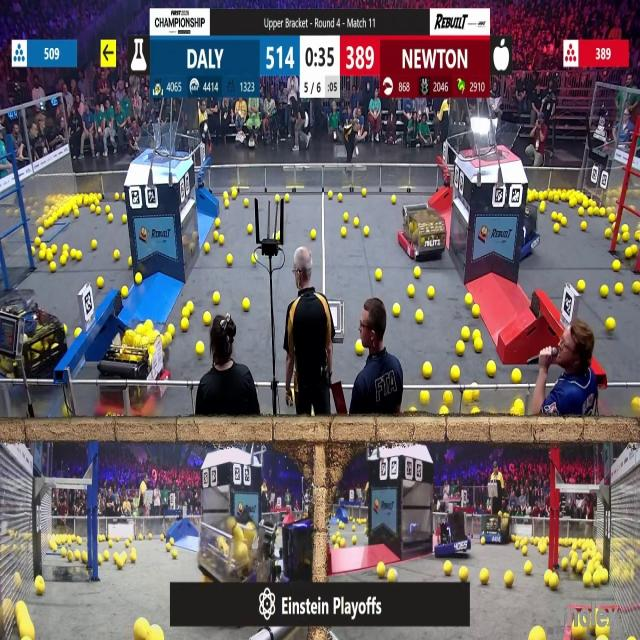ball_ground: (135, 618, 149, 640), (22, 623, 34, 640), (530, 628, 544, 640), (36, 578, 45, 596), (503, 570, 513, 586), (149, 627, 162, 639), (422, 362, 432, 377), (487, 360, 496, 376), (481, 568, 490, 584), (550, 574, 559, 589), (515, 399, 524, 414), (378, 563, 387, 577), (387, 568, 396, 582), (513, 370, 522, 383), (420, 391, 429, 404), (444, 391, 453, 404), (457, 341, 465, 355), (416, 310, 424, 324), (459, 566, 467, 580), (444, 561, 452, 575), (584, 572, 592, 586), (594, 572, 602, 586), (462, 390, 472, 401), (605, 318, 614, 330), (452, 365, 459, 380), (601, 569, 608, 584), (474, 340, 482, 353), (392, 305, 400, 318), (204, 313, 212, 326), (461, 327, 469, 340), (600, 285, 608, 297), (524, 562, 532, 574), (243, 297, 250, 310), (356, 342, 363, 355), (195, 343, 202, 356), (616, 283, 624, 294), (116, 558, 124, 569), (577, 280, 584, 292), (409, 285, 416, 297), (471, 306, 478, 318), (562, 558, 569, 570), (633, 282, 640, 294), (213, 291, 220, 303), (181, 319, 188, 331), (81, 552, 88, 564), (576, 560, 583, 572), (472, 328, 480, 338), (604, 230, 612, 240), (538, 543, 546, 553), (537, 189, 545, 199), (633, 396, 639, 409), (465, 293, 472, 304), (414, 268, 421, 279), (428, 286, 434, 298), (136, 273, 142, 285), (614, 262, 621, 272), (61, 254, 68, 264), (626, 248, 633, 258), (186, 303, 193, 313), (226, 253, 232, 264), (121, 286, 127, 297), (114, 249, 120, 260), (442, 408, 449, 417), (579, 221, 586, 230), (608, 214, 615, 223), (212, 233, 219, 242), (38, 251, 45, 260), (570, 559, 577, 568), (61, 549, 68, 558), (98, 278, 104, 288), (50, 264, 56, 274), (363, 225, 369, 235), (554, 222, 560, 232), (132, 553, 138, 563), (344, 212, 350, 222), (218, 235, 224, 245), (539, 203, 545, 213), (104, 552, 110, 562), (342, 227, 348, 237), (204, 243, 210, 253), (76, 250, 82, 260), (70, 250, 76, 260), (561, 216, 567, 226), (169, 324, 175, 334), (74, 327, 80, 337), (389, 197, 395, 207), (75, 551, 81, 561), (632, 246, 638, 256), (543, 573, 548, 585), (527, 191, 533, 201), (63, 246, 69, 256), (68, 552, 74, 562), (377, 270, 382, 281), (577, 207, 583, 216), (352, 535, 358, 544), (38, 226, 44, 235), (569, 199, 575, 208), (93, 240, 98, 250), (523, 544, 528, 554), (173, 550, 178, 560), (53, 242, 58, 252), (98, 554, 103, 564), (46, 252, 51, 262), (470, 409, 477, 416), (244, 200, 250, 208), (276, 233, 282, 241), (275, 193, 281, 201), (284, 193, 290, 201), (624, 234, 630, 242), (123, 539, 129, 547), (62, 411, 68, 419), (311, 231, 316, 240), (215, 218, 220, 227), (251, 254, 256, 263), (339, 192, 344, 201), (233, 189, 238, 198), (635, 232, 640, 241), (35, 238, 40, 247), (74, 209, 79, 218), (166, 543, 172, 550), (248, 223, 252, 233), (108, 214, 113, 222), (354, 218, 359, 226), (121, 215, 126, 223), (361, 188, 366, 196), (589, 208, 594, 216), (99, 534, 104, 542), (108, 539, 113, 547), (129, 256, 133, 265), (114, 192, 119, 199), (516, 541, 521, 548), (115, 535, 120, 542), (553, 212, 557, 220), (224, 201, 228, 209), (97, 207, 101, 215), (106, 206, 110, 214), (328, 190, 332, 198), (92, 205, 96, 213), (223, 190, 227, 198), (341, 522, 345, 530), (114, 554, 118, 562), (618, 235, 622, 243), (129, 535, 133, 543), (148, 536, 152, 543), (482, 537, 486, 544), (170, 537, 174, 544), (32, 248, 36, 255), (140, 534, 144, 540), (120, 192, 123, 199), (162, 534, 165, 540), (353, 526, 356, 532)
goal: (464, 121, 520, 160), (129, 130, 189, 160)
robot_blue: (5, 314, 58, 399), (197, 519, 258, 585), (435, 512, 473, 558), (514, 204, 539, 262), (482, 512, 511, 544)
robot_red: (98, 321, 171, 414), (398, 206, 447, 260)
